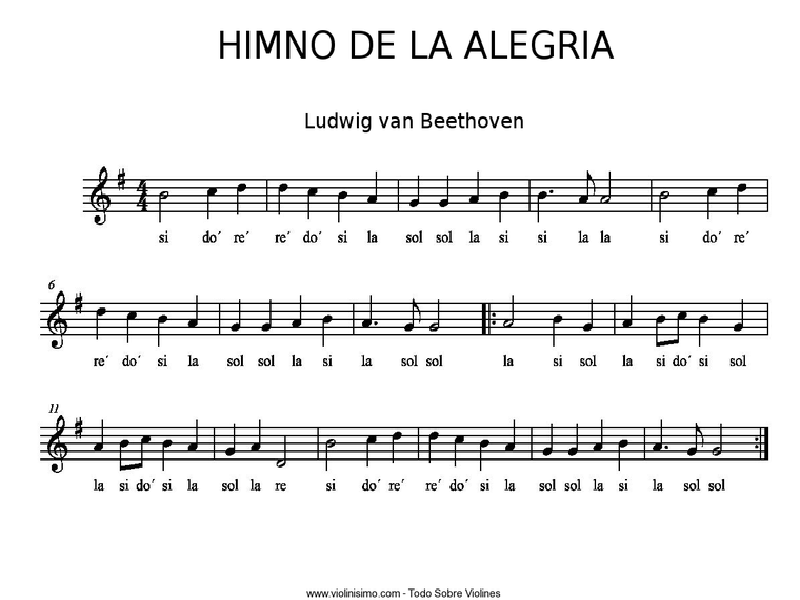B: (600, 175, 617, 207), (429, 297, 443, 332), (503, 293, 516, 329), (712, 423, 725, 456), (658, 189, 670, 223), (276, 434, 288, 468), (324, 438, 336, 470), (157, 190, 169, 221)
C: (403, 298, 421, 332), (134, 434, 151, 470), (671, 311, 688, 345), (688, 421, 704, 456), (652, 314, 668, 348), (118, 437, 130, 471)
CS: (46, 291, 68, 350), (47, 415, 69, 474), (90, 167, 112, 224)
N: (304, 186, 320, 221), (259, 298, 274, 333), (705, 185, 719, 221), (407, 176, 422, 209), (621, 294, 636, 327), (160, 439, 175, 472), (186, 417, 200, 452), (291, 295, 305, 329), (469, 172, 482, 208), (204, 185, 218, 218), (617, 437, 630, 472), (731, 299, 745, 331), (542, 426, 556, 457), (225, 422, 237, 458), (583, 299, 596, 332), (551, 315, 564, 348), (365, 434, 378, 467), (361, 295, 374, 328), (229, 299, 242, 332), (125, 311, 138, 344), (251, 419, 264, 452), (366, 174, 380, 204), (187, 295, 200, 327), (568, 424, 580, 458), (454, 434, 466, 468), (322, 314, 334, 348), (93, 418, 105, 452), (276, 182, 289, 213), (336, 189, 349, 220), (534, 189, 547, 220), (697, 315, 709, 347), (428, 432, 440, 464), (94, 306, 106, 338), (236, 181, 247, 215), (440, 176, 451, 210), (736, 182, 747, 216), (157, 315, 169, 346), (593, 421, 604, 454), (506, 419, 517, 452), (479, 439, 490, 472), (391, 432, 403, 462), (499, 191, 510, 222), (653, 421, 664, 452)
P: (548, 186, 555, 195), (373, 319, 379, 326), (664, 443, 669, 451)
SC: (578, 169, 597, 205)
SOS: (116, 166, 128, 190), (73, 292, 84, 315), (74, 415, 83, 439)
